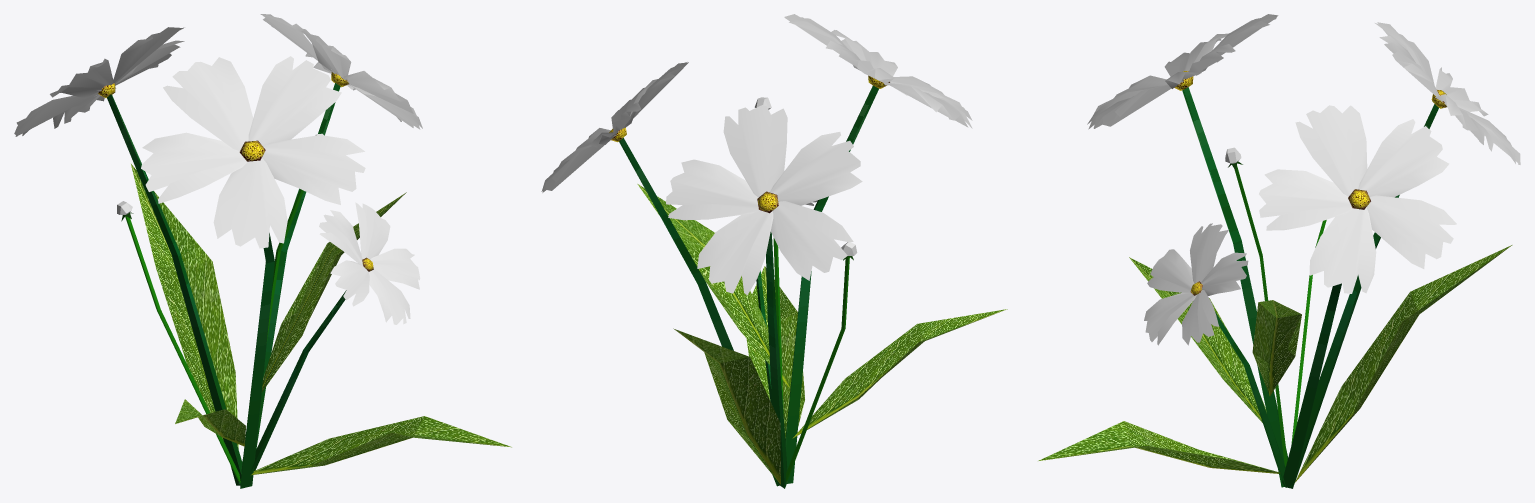
File: flower_white.glb
The picture shows the model from 3 angles, left to right: view 1: azimuth 30°, elevation 25°; view 2: azimuth 150°, elevation 25°; view 3: azimuth 270°, elevation 25°; orthographic projection.
Parts seen in each view (by area): view 1: Circle.008; view 2: Circle.008; view 3: Circle.008.
Boxes of the visible parts, x1,y1,x2,y2 form: Circle.008: [14, 14, 511, 488]; Circle.008: [541, 14, 1007, 488]; Circle.008: [1038, 14, 1520, 488].
Size of the model in its own units: 1.44 by 1.77 by 1.74.
Materials: 6 (3 with a texture image).
